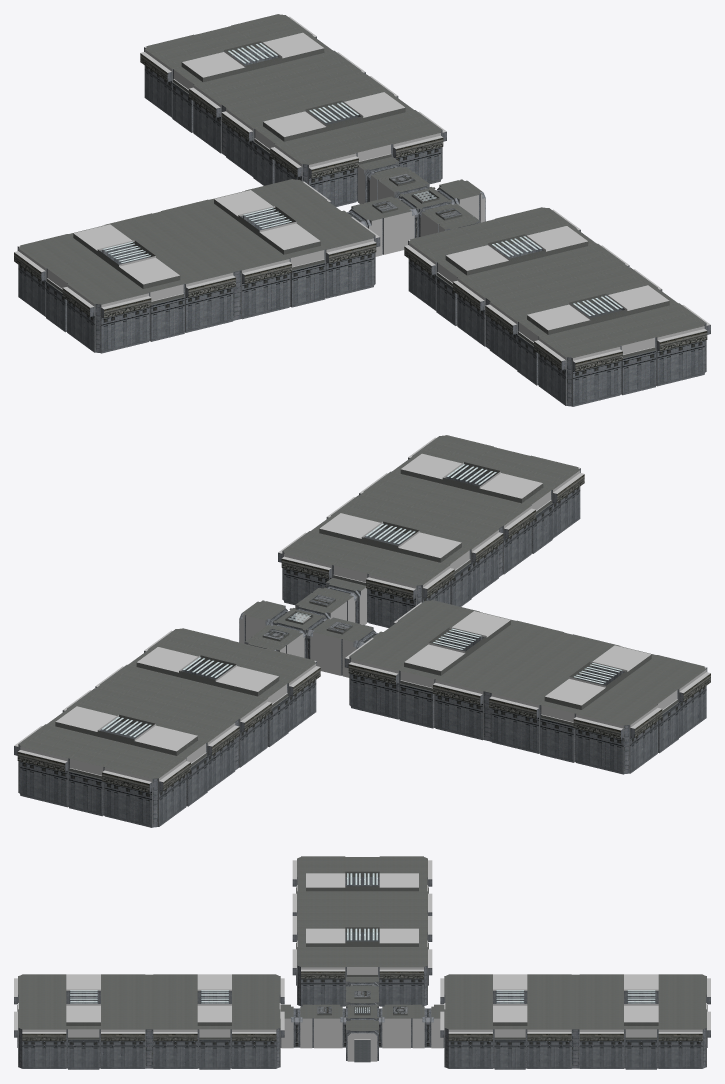
File: poi_all_impl_bunker_imperial_prison_s01_r6_officer_quarters_mesh_r6.fbx
The picture shows the model from 3 angles, top to bottom: view 1: azimuth 30°, elevation 25°; view 2: azimuth 150°, elevation 25°; view 3: azimuth 270°, elevation 25°; orthographic projection. The views are drawn at different scales.
Visible parts, largest first — view 1: mesh_node; view 2: mesh_node; view 3: mesh_node.
Part boxes in pixels (box(x1,y1,x2,y2)): mesh_node: box(14, 14, 710, 406); mesh_node: box(14, 435, 710, 827); mesh_node: box(14, 856, 710, 1069).
Size of the model in its own units: 51 by 6 by 85.
